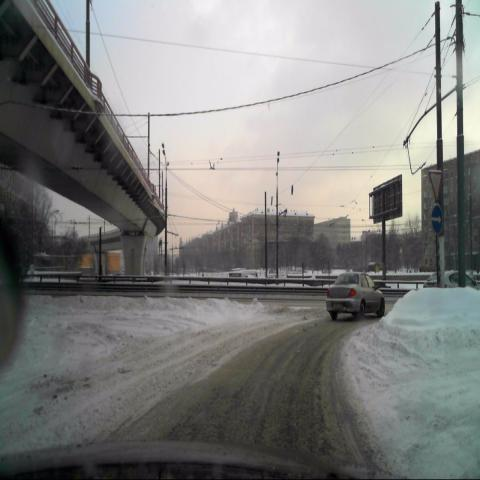4_1_2_1: (432, 204, 442, 233)
